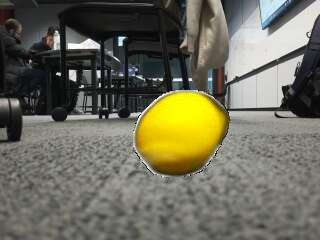lemon: (134, 95, 226, 177)
